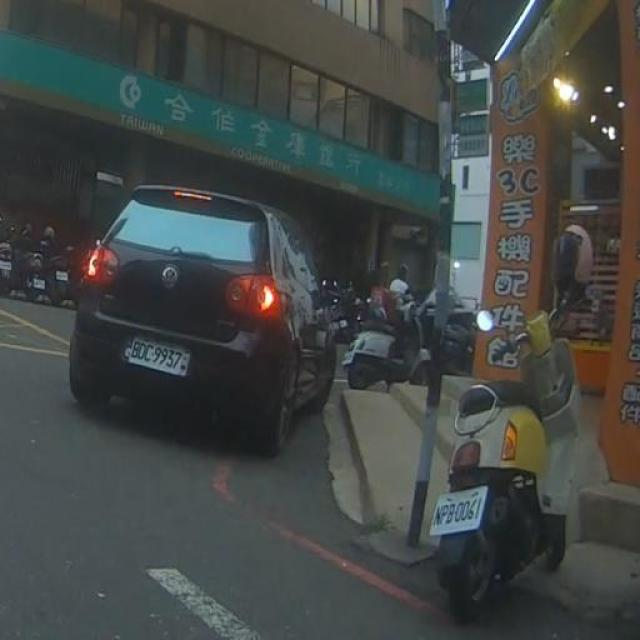Legalparking: (430, 225, 590, 622)
illegalparking: (69, 184, 335, 455)
